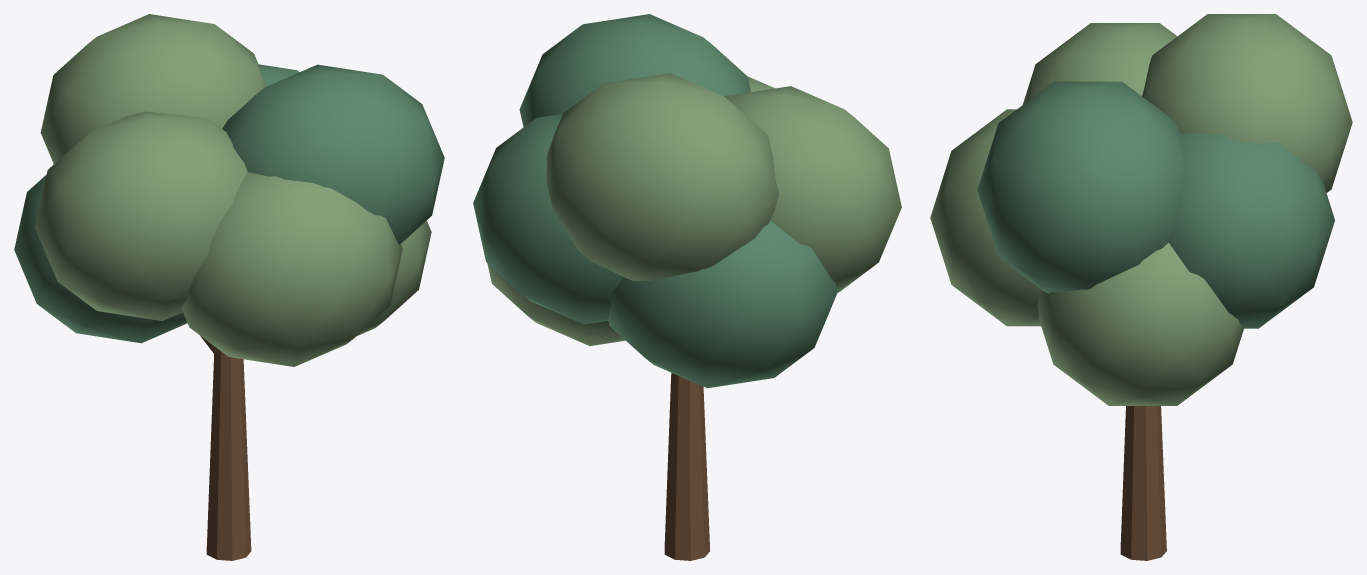
Rendered from tree_1.glb.
The picture shows the model from 3 angles, left to right: view 1: azimuth 30°, elevation 25°; view 2: azimuth 150°, elevation 25°; view 3: azimuth 270°, elevation 25°; orthographic projection. The views are drawn at different scales.
Parts seen in each view (by area): view 1: Model; view 2: Model; view 3: Model.
Boxes of the visible parts, left/top/right/bottom form: Model: left=14, top=14, right=444, bottom=560; Model: left=473, top=14, right=901, bottom=560; Model: left=930, top=14, right=1352, bottom=560.
Bounding box in the file's own units: 2.62 × 3.35 × 2.48.
